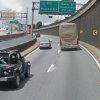Car: (1, 45, 37, 93)
